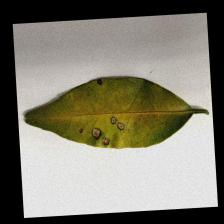canker: (76, 107, 154, 158)
